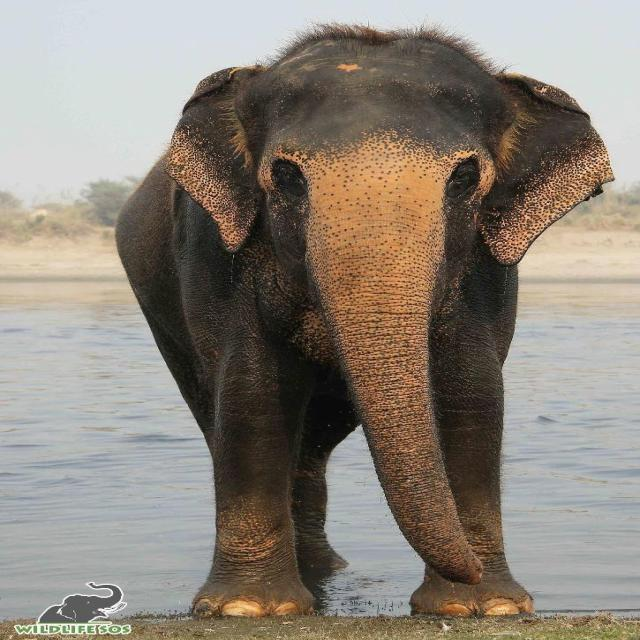elephant: (116, 24, 612, 617)
